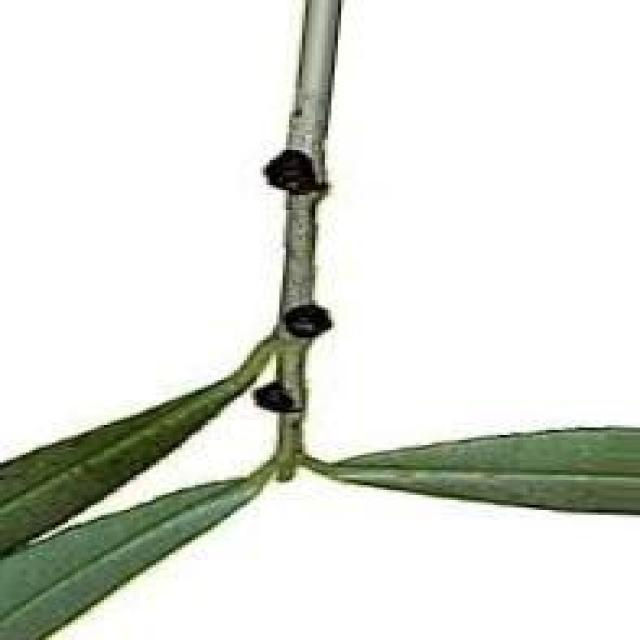Black Scale: (266, 150, 325, 197), (283, 302, 328, 338), (253, 380, 299, 412)
